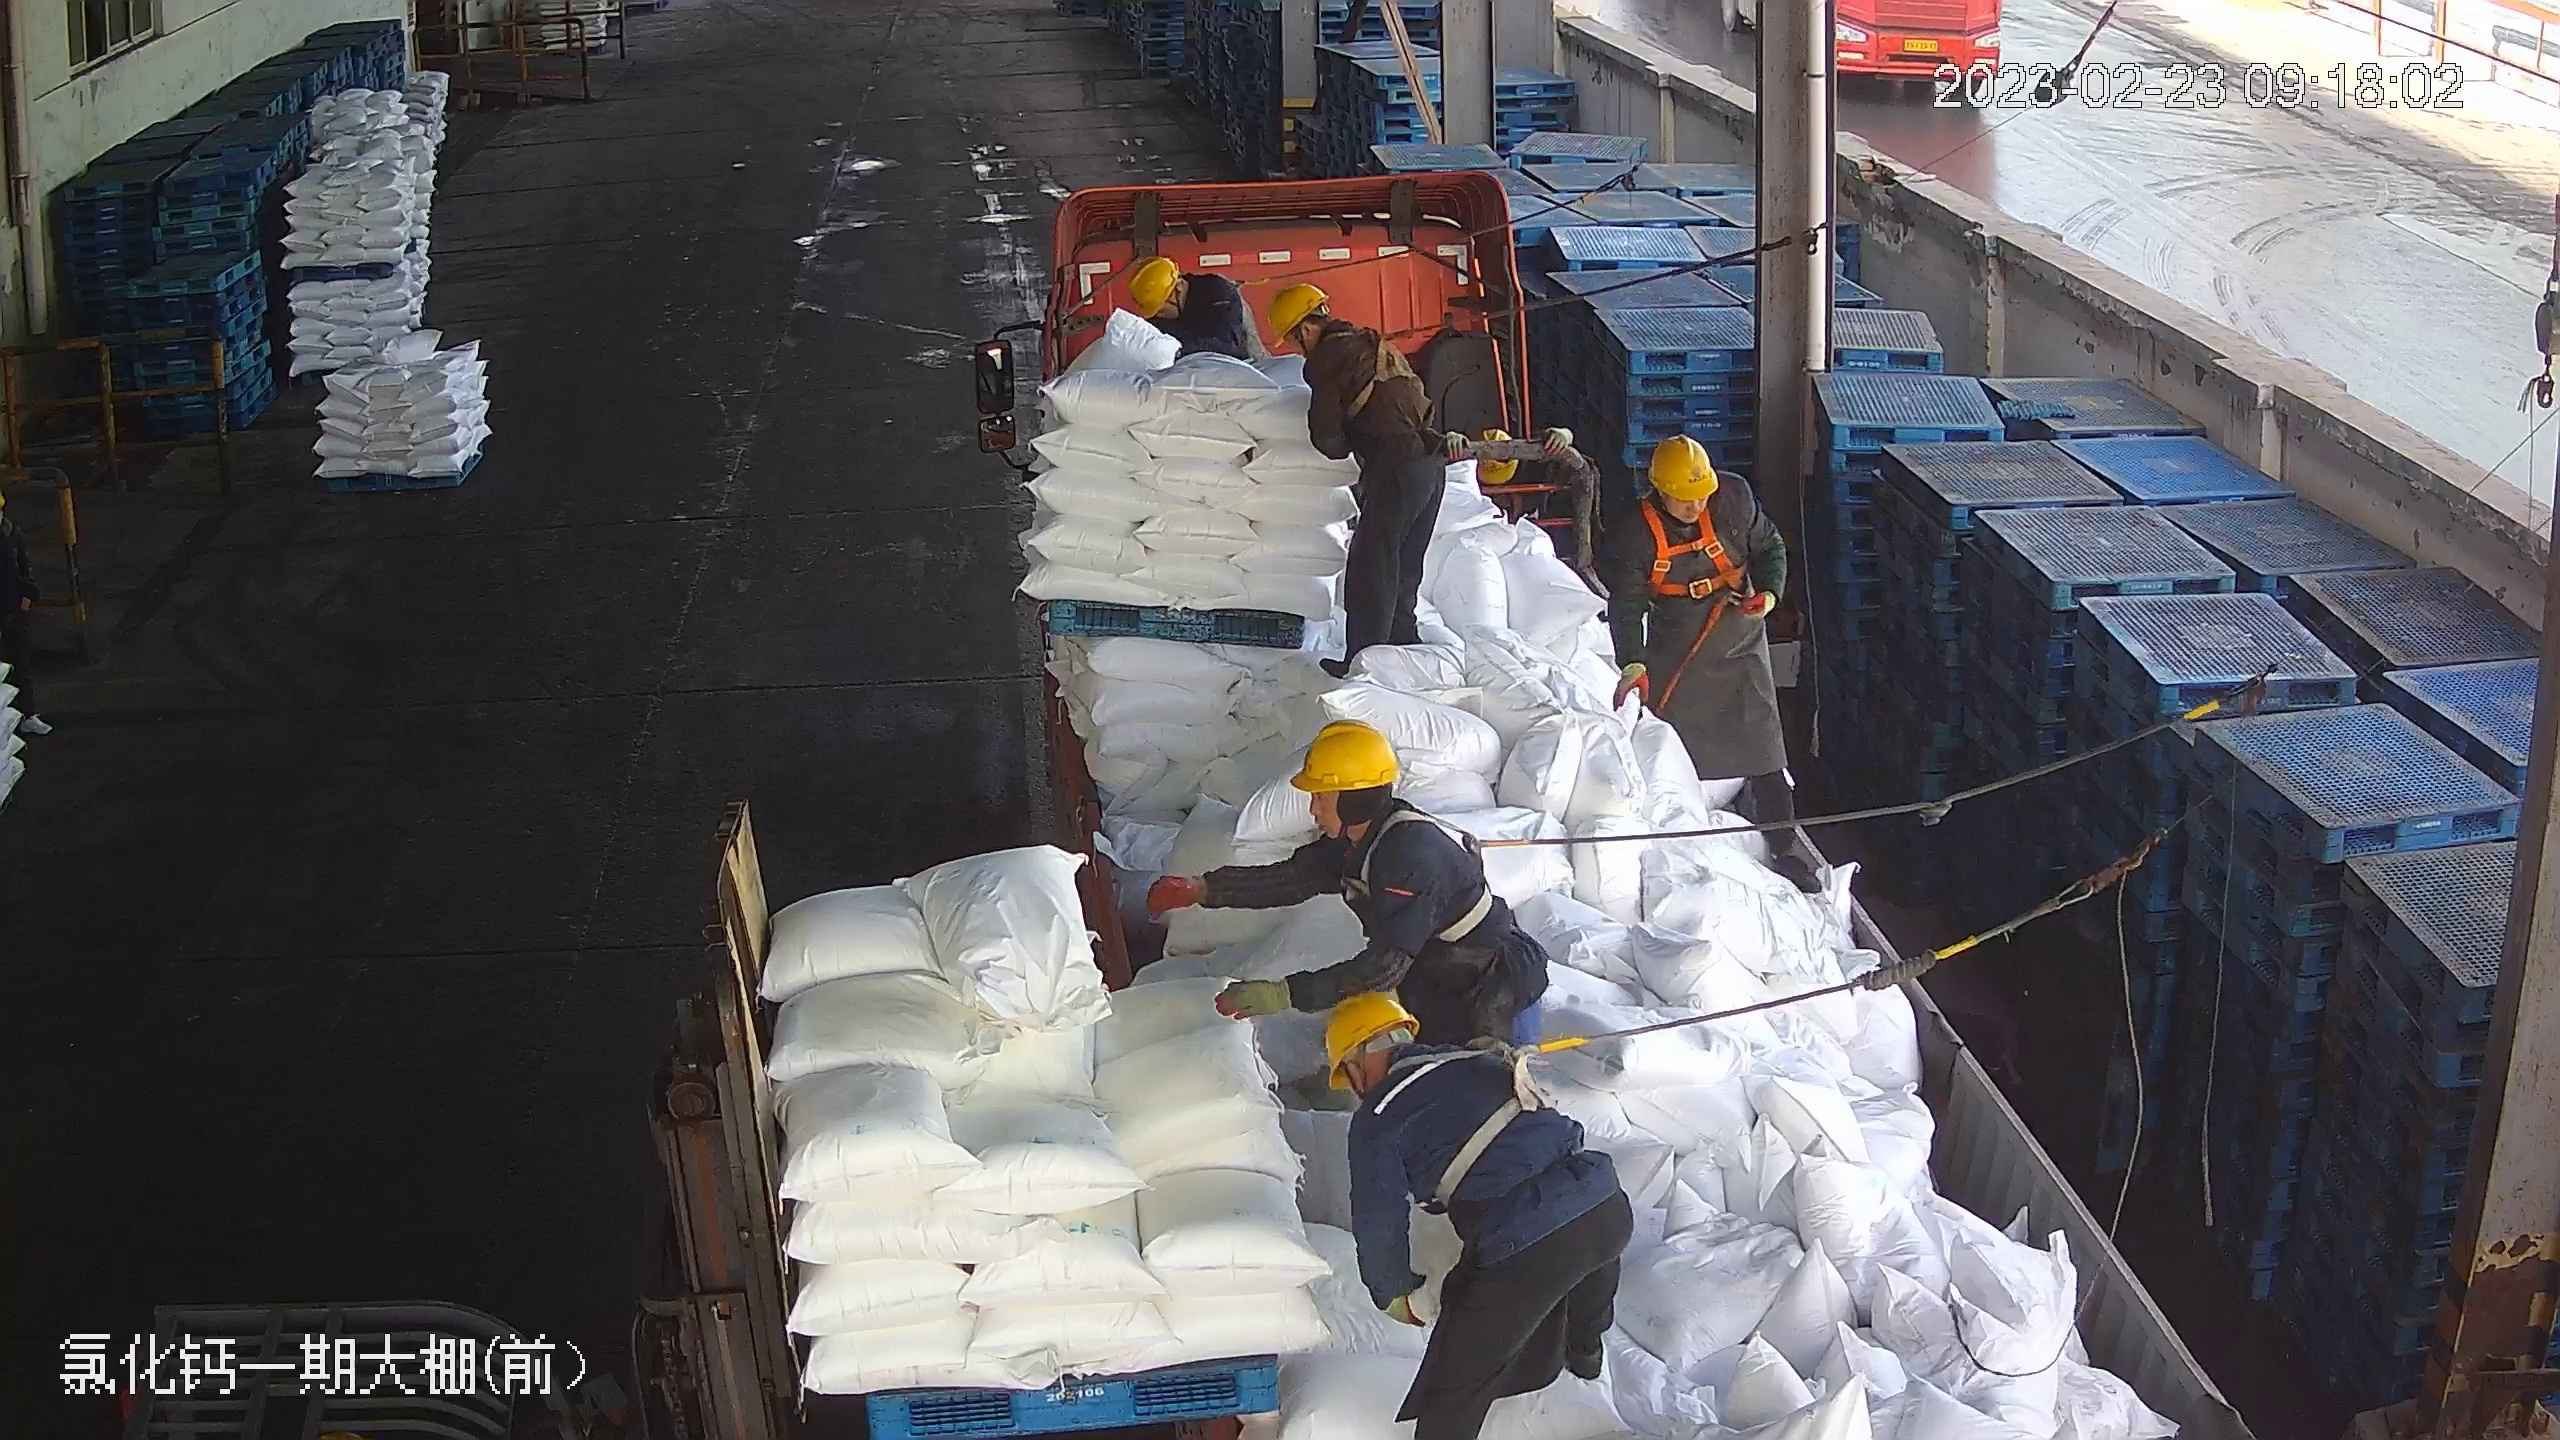belt: (1410, 1031, 1584, 1191), (1371, 807, 1528, 946), (1321, 329, 1429, 420), (1644, 518, 1737, 608), (1216, 263, 1260, 306)
head: (1279, 722, 1457, 900), (1325, 988, 1498, 1135), (1622, 436, 1741, 553), (1268, 286, 1390, 386), (1124, 256, 1229, 334)
helmet: (1321, 988, 1418, 1074), (1285, 719, 1399, 790), (1643, 431, 1722, 499), (1259, 280, 1328, 343), (1124, 252, 1181, 320)
people: (1198, 720, 1561, 1121), (1320, 987, 1626, 1436), (1611, 430, 1817, 880), (1260, 280, 1448, 686)
truck: (981, 165, 2244, 1440)
